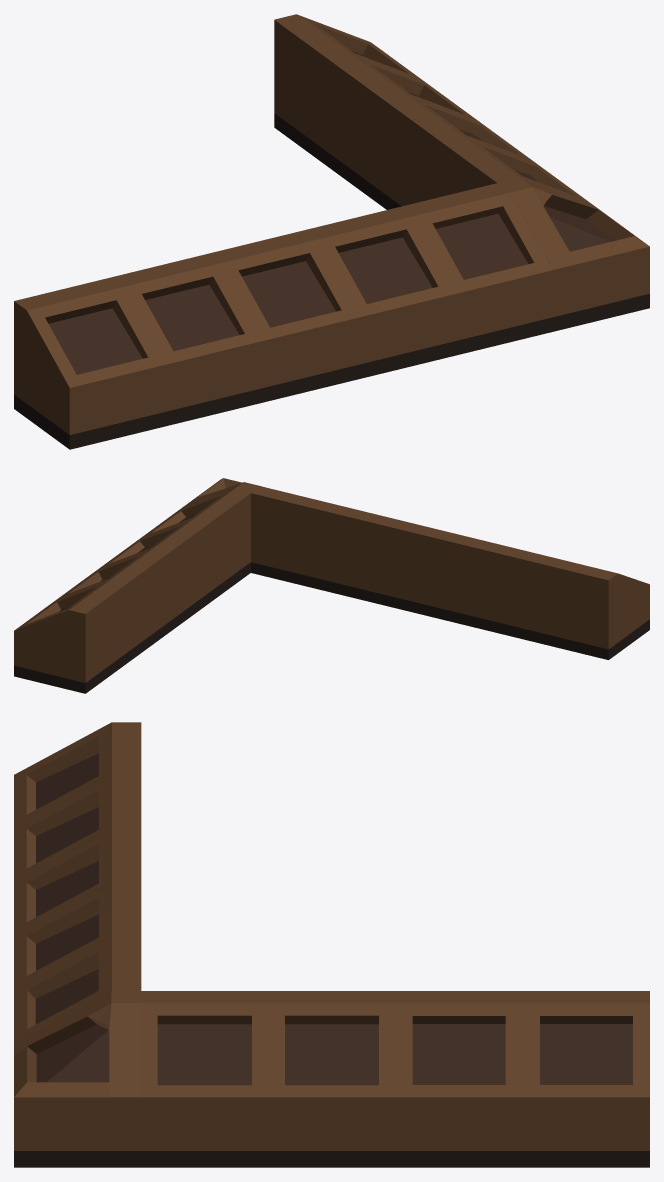
Rendered from bacsBois_corner.fbx.
3 views of the same model, one above another, from view 1: azimuth 30°, elevation 25°; view 2: azimuth 150°, elevation 25°; view 3: azimuth 270°, elevation 25° (orthographic). The views are drawn at different scales.
Visible parts, largest first — view 1: Cube.000; view 2: Cube.000; view 3: Cube.000.
Part boxes in pixels (x1=…): Cube.000: x1=14, y1=14, x2=649, y2=449; Cube.000: x1=14, y1=478, x2=649, y2=693; Cube.000: x1=14, y1=722, x2=649, y2=1167.
Size of the model in its own units: 600 by 107 by 500.
